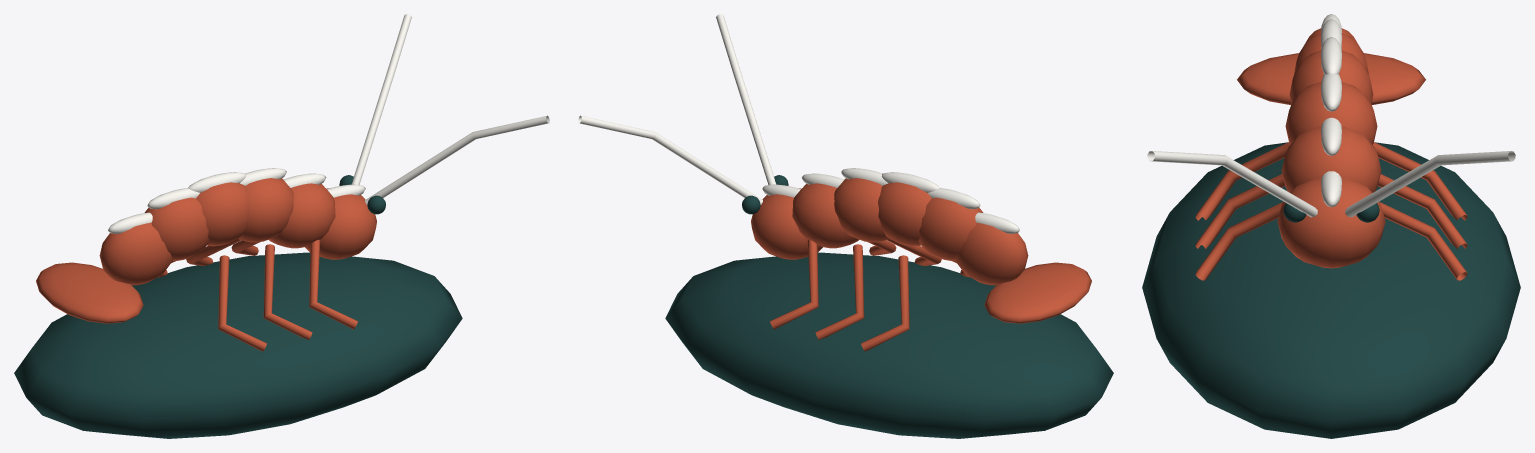
Rendered from ci-station.glb.
3 renders of one model, left to right at view 1: azimuth 30°, elevation 25°; view 2: azimuth 150°, elevation 25°; view 3: azimuth 270°, elevation 25°, orthographic. The views are drawn at different scales.
Visible parts, largest first — view 1: Station stone, Tail fan, Shrimp segment 5, Shrimp segment 0, Shrimp segment 1, Shrimp segment 4, Shrimp segment 2, Shrimp segment 3, Long antenna, Long antenna.001, Walking leg.002, Walking leg.001 (+4 smaller); view 2: Station stone, Tail fan, Shrimp segment 5, Shrimp segment 0, Shrimp segment 1, Shrimp segment 4, Shrimp segment 2, Shrimp segment 3, Long antenna.001, Long antenna, Walking leg.005, Walking leg.004 (+4 smaller); view 3: Station stone, Shrimp segment 0, Shrimp segment 1, Tail fan, Shrimp segment 2, Long antenna, Long antenna.001, Shrimp segment 3, Walking leg, Walking leg.003, Walking leg.002, Walking leg.005 (+8 smaller).
Part boxes in pixels (x1,y1,x2,y2): Station stone: [14, 252, 462, 438]; Tail fan: [36, 262, 143, 323]; Shrimp segment 5: [99, 222, 172, 285]; Shrimp segment 0: [305, 188, 376, 259]; Shrimp segment 1: [269, 183, 335, 248]; Shrimp segment 4: [144, 197, 209, 260]; Shrimp segment 2: [238, 178, 293, 242]; Shrimp segment 3: [196, 182, 249, 246]; Long antenna: [365, 115, 549, 204]; Long antenna.001: [351, 14, 411, 185]; Walking leg.002: [218, 255, 266, 351]; Walking leg.001: [263, 244, 312, 339]; Station stone: [665, 252, 1113, 438]; Tail fan: [984, 262, 1091, 323]; Shrimp segment 5: [955, 222, 1028, 285]; Shrimp segment 0: [751, 188, 822, 259]; Shrimp segment 1: [792, 183, 858, 248]; Shrimp segment 4: [918, 197, 983, 260]; Shrimp segment 2: [834, 178, 889, 242]; Shrimp segment 3: [878, 182, 931, 246]; Long antenna.001: [578, 115, 762, 204]; Long antenna: [716, 14, 776, 185]; Walking leg.005: [861, 255, 909, 351]; Walking leg.004: [815, 244, 864, 339]; Station stone: [1142, 142, 1520, 438]; Shrimp segment 0: [1277, 179, 1385, 268]; Shrimp segment 1: [1281, 126, 1381, 192]; Tail fan: [1237, 53, 1425, 104]; Shrimp segment 2: [1285, 82, 1377, 144]; Long antenna: [1147, 151, 1317, 217]; Long antenna.001: [1345, 151, 1515, 217]; Shrimp segment 3: [1289, 50, 1373, 103]; Walking leg: [1195, 202, 1283, 280]; Walking leg.003: [1379, 202, 1467, 280]; Walking leg.002: [1195, 142, 1289, 220]; Walking leg.005: [1373, 142, 1467, 220].
Bounding box in the file's own units: 1.5 × 0.8813 × 0.84.
